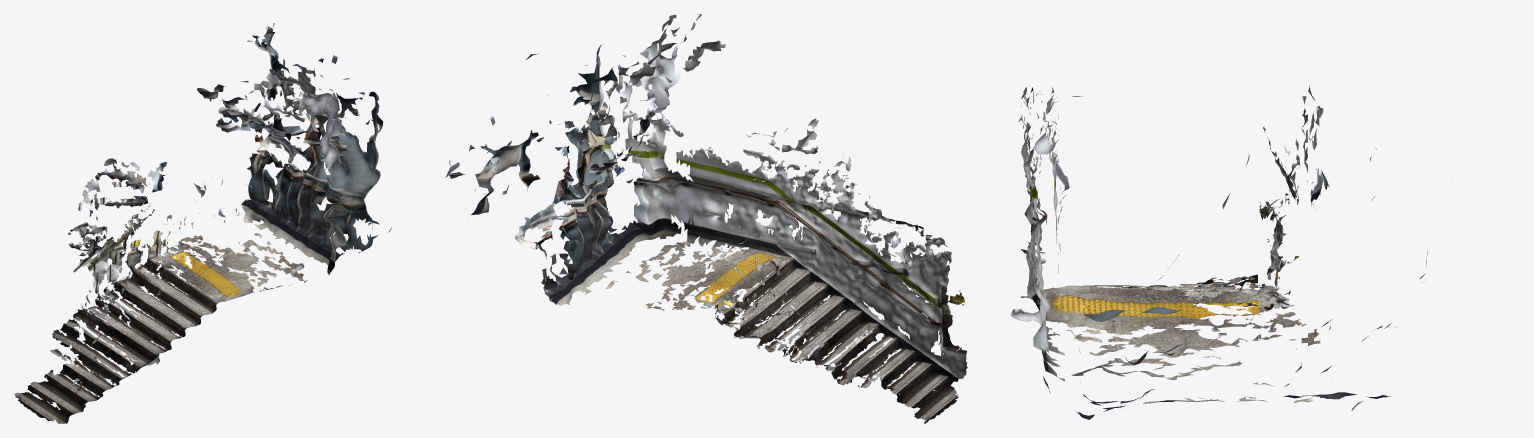
The model's file is 138705-Stair2-tex.glb.
3 views of the same model, side by side, from view 1: azimuth 30°, elevation 25°; view 2: azimuth 150°, elevation 25°; view 3: azimuth 270°, elevation 25° (orthographic). The views are drawn at different scales.
Visible parts, largest first — view 1: Node; view 2: Node; view 3: Node.
Boxes of the visible parts, x1,y1,x2,y2 form: Node: (14, 23, 391, 423); Node: (445, 14, 967, 423); Node: (1011, 66, 1452, 419).
Bounding box in the file's own units: 6.8 × 4.89 × 4.48.
12 materials, 12 textured.
